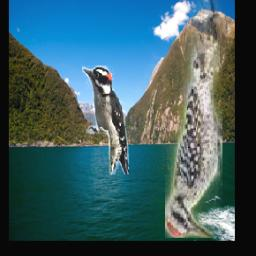Woodpecker: (166, 0, 223, 238), (83, 66, 130, 175)
